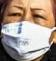with_mask: (1, 2, 56, 61)
